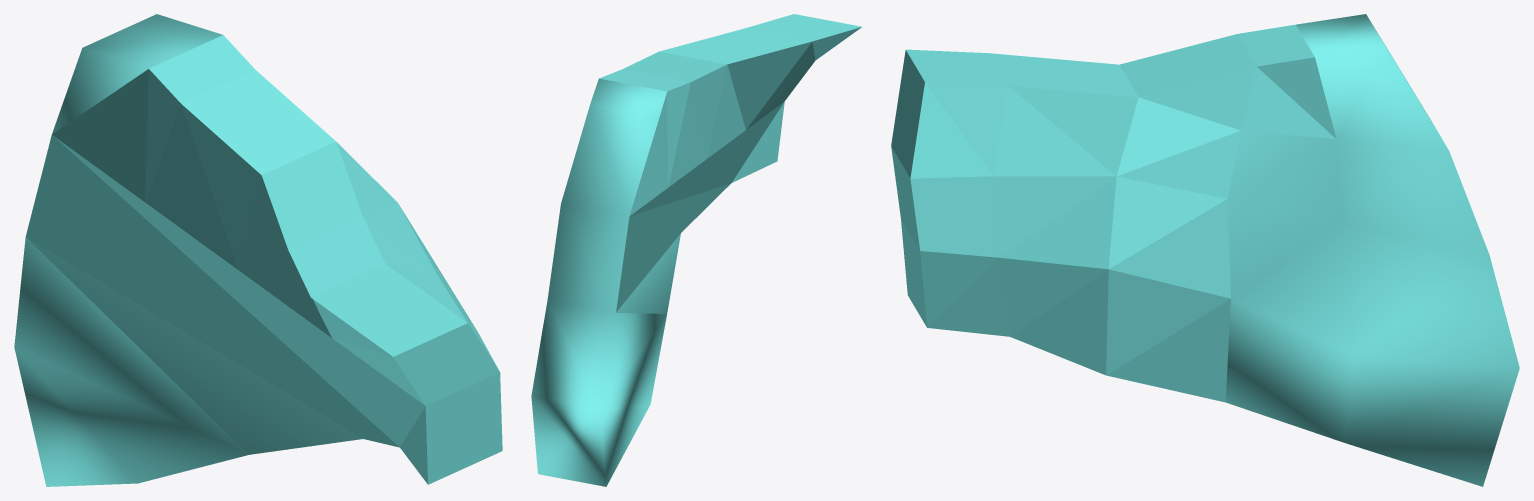
The model's file is palmo.fbx.
3 views of the same model, side by side, from view 1: azimuth 30°, elevation 25°; view 2: azimuth 150°, elevation 25°; view 3: azimuth 270°, elevation 25° (orthographic). The views are drawn at different scales.
Visible parts, largest first — view 1: palmSensor; view 2: palmSensor; view 3: palmSensor.
Boxes of the visible parts, <box> form: palmSensor: <box>14,14,502,486</box>; palmSensor: <box>531,14,862,486</box>; palmSensor: <box>891,14,1519,486</box>.
Bounding box in the file's own units: 39.64 × 75.76 × 98.58.
